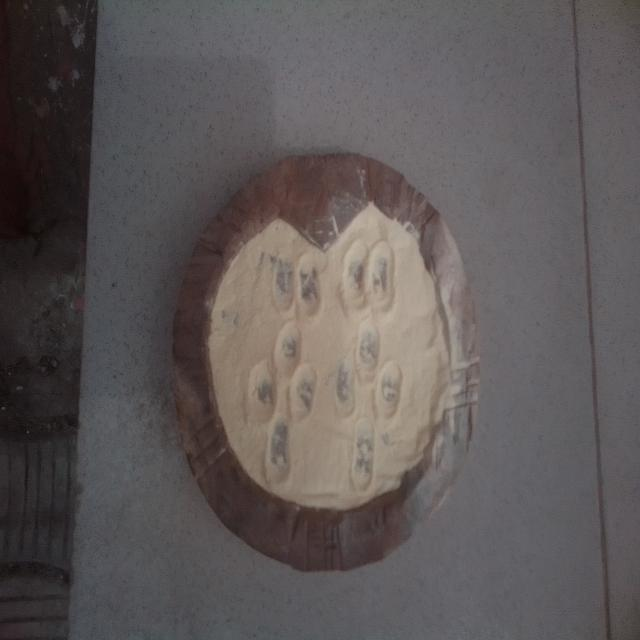double: (337, 232, 403, 323), (244, 358, 321, 426), (269, 245, 326, 323), (331, 366, 404, 418)
single: (260, 428, 294, 492), (346, 421, 376, 484), (275, 328, 305, 363), (356, 326, 380, 366)
